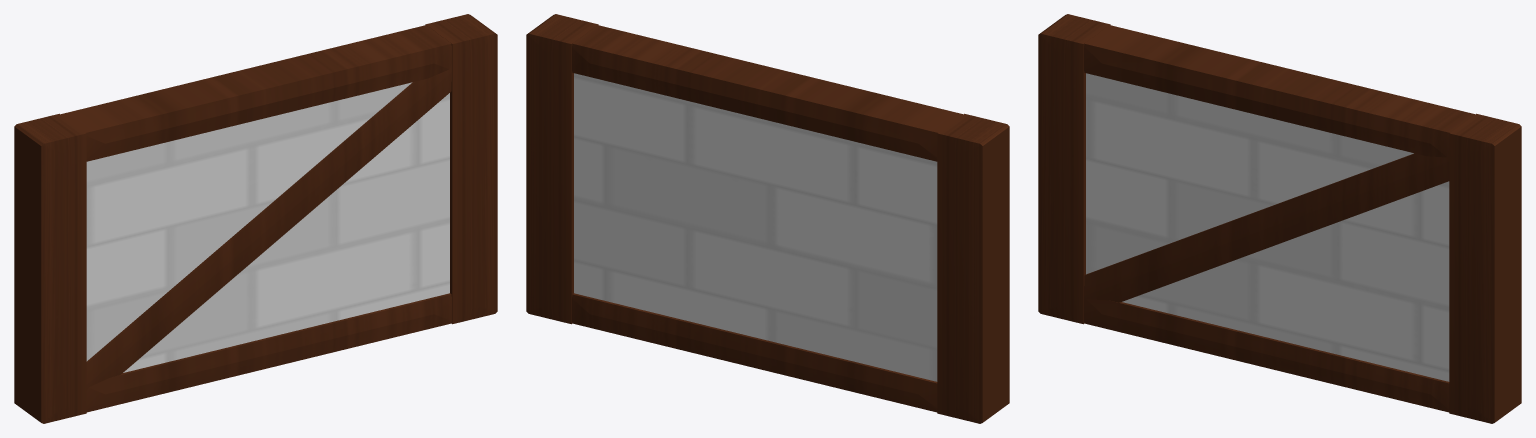
File: Half_Wall_R_Slash_Brick.fbx
3 renders of one model, left to right at view 1: azimuth 30°, elevation 25°; view 2: azimuth 150°, elevation 25°; view 3: azimuth 330°, elevation 25°, orthographic.
Visible parts, largest first — view 1: Half_Wall_R_Slash; view 2: Half_Wall_R_Slash; view 3: Half_Wall_R_Slash.
Part boxes in pixels (<box>): Half_Wall_R_Slash: <box>14,14,497,423</box>; Half_Wall_R_Slash: <box>526,14,1009,423</box>; Half_Wall_R_Slash: <box>1038,14,1521,423</box>.
Bounding box in the file's own units: 212 × 124 × 23.4.
